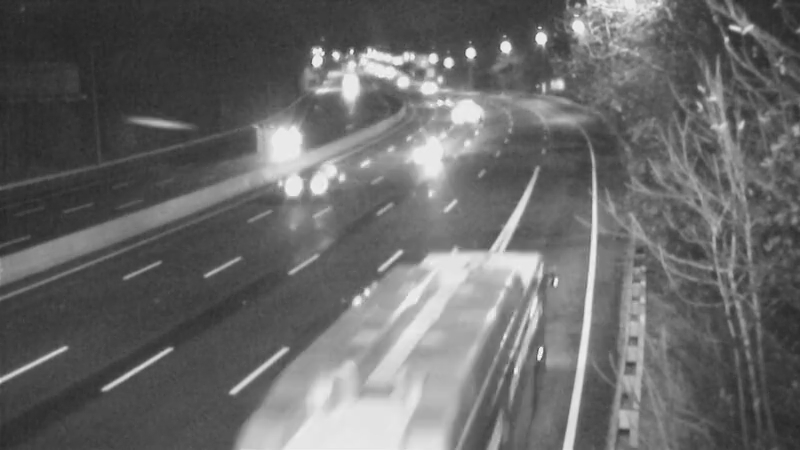vehicle: (348, 298, 458, 408), (398, 112, 478, 192), (276, 149, 356, 229), (384, 55, 434, 105), (393, 60, 443, 110), (416, 84, 466, 134), (441, 89, 491, 139), (262, 119, 312, 169), (325, 63, 375, 113)
